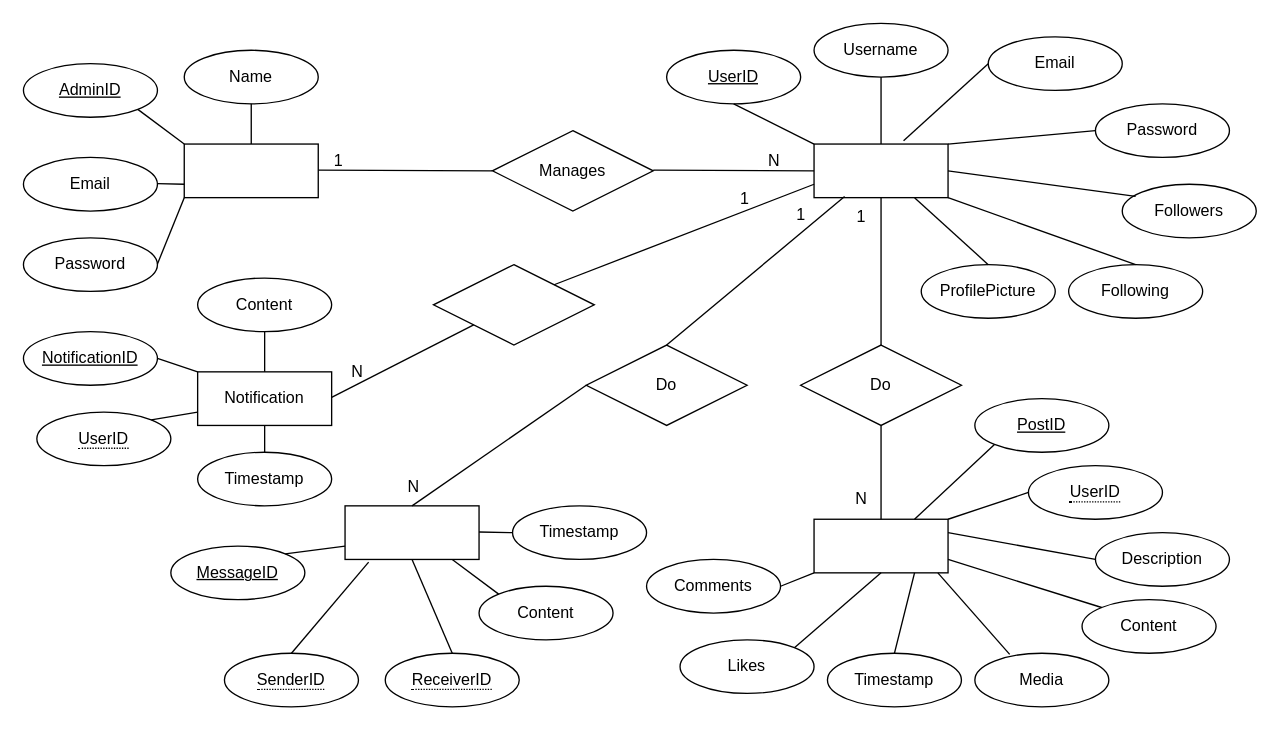
Some shapes in this 1280 by 730 pixel diagram are drawn without their labels. The shapes that lost their labels are listed below. From the top down, each one's centre as x and y in pixels, then its label:
At point 250,170: "Admin".
At point 880,170: "User".
At point 513,304: "Notifies".
At point 411,532: "Message".
At point 880,545: "Post".
